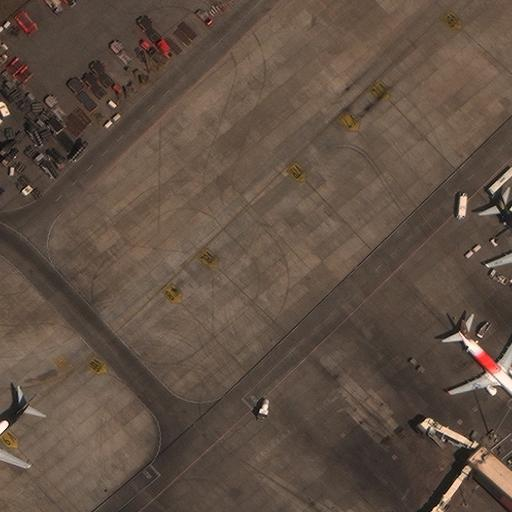Medium Civil Transport: (449, 320, 511, 406), (0, 393, 36, 471), (488, 193, 511, 272)
